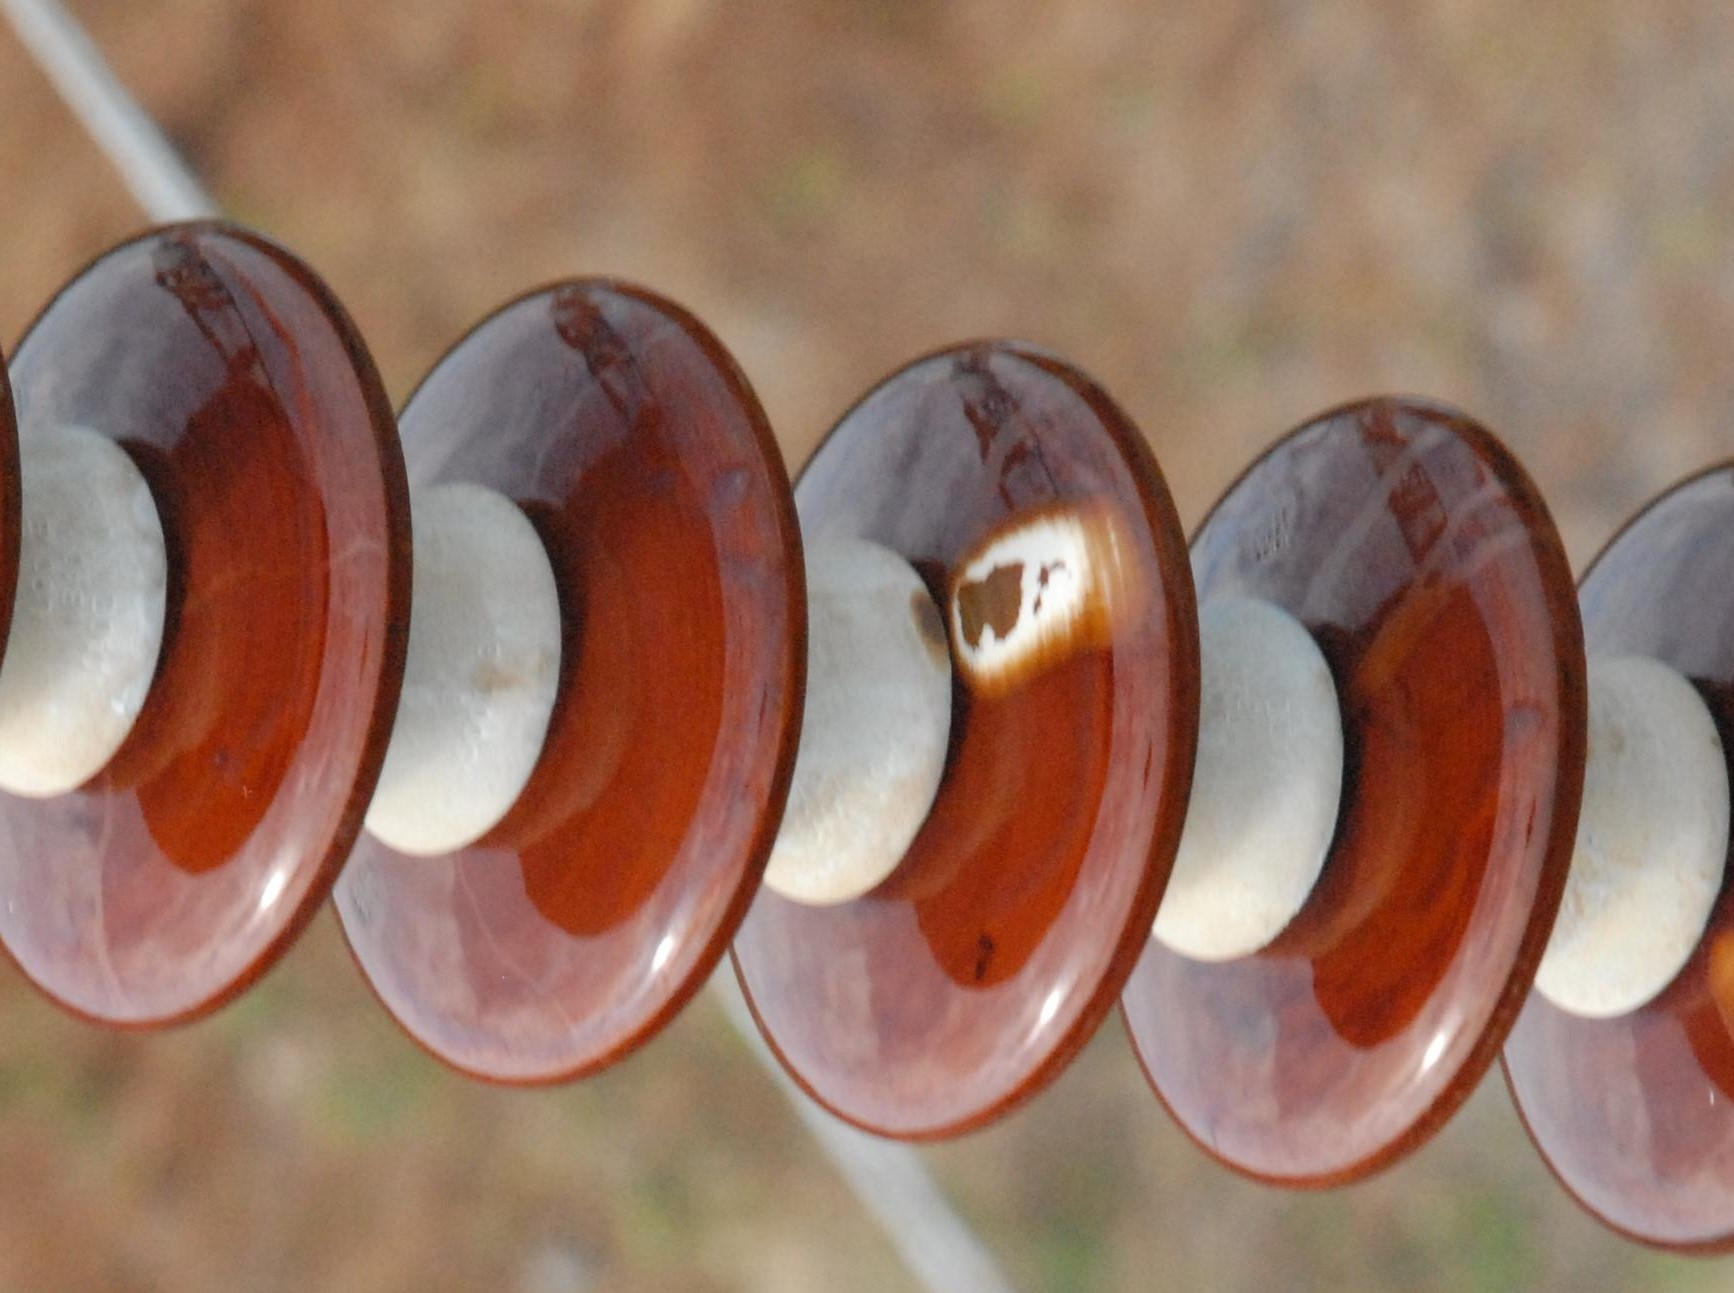Insulator flashover: (709, 327, 1204, 1148)
